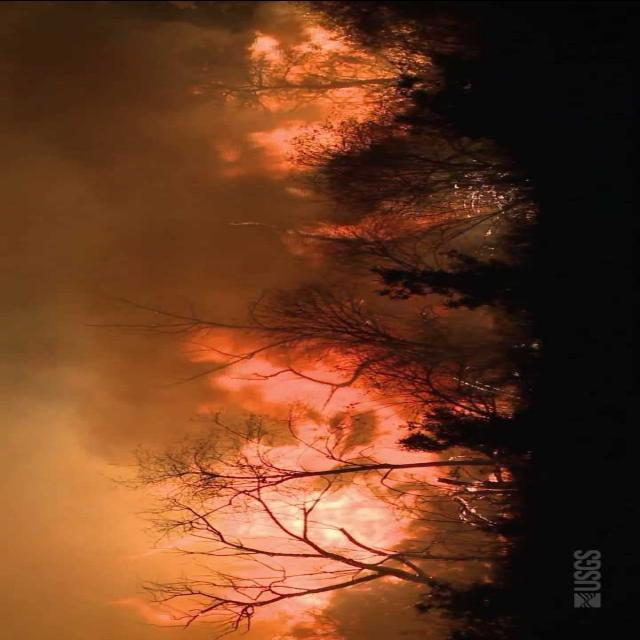Fire: (133, 324, 459, 637), (218, 4, 442, 256)
